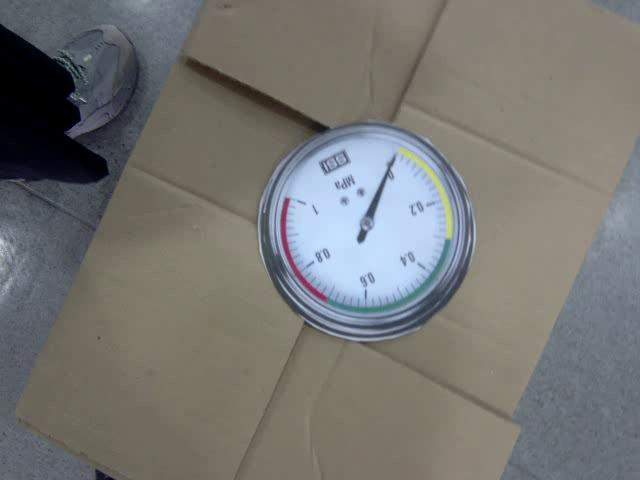Dashboard: (256, 122, 478, 344)
ssi: (311, 150, 352, 176)
